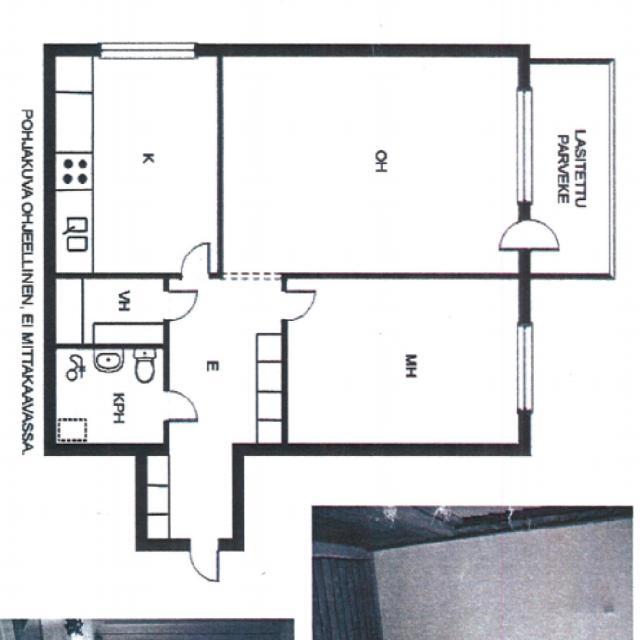door: (517, 216, 560, 249), (486, 216, 528, 249), (189, 538, 219, 583), (164, 391, 196, 421), (164, 290, 196, 320), (181, 244, 208, 278), (282, 290, 314, 318)
